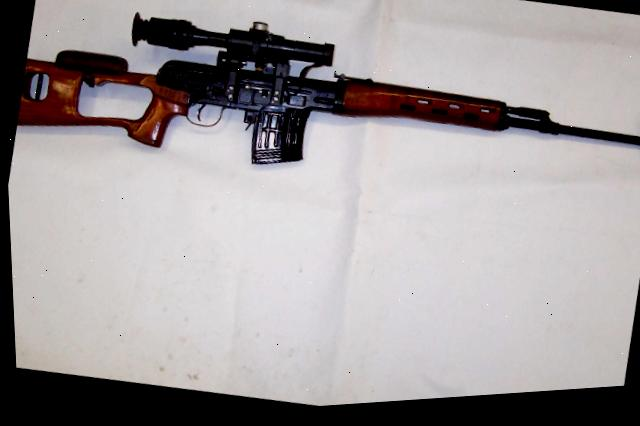rifle: (4, 0, 640, 280)
